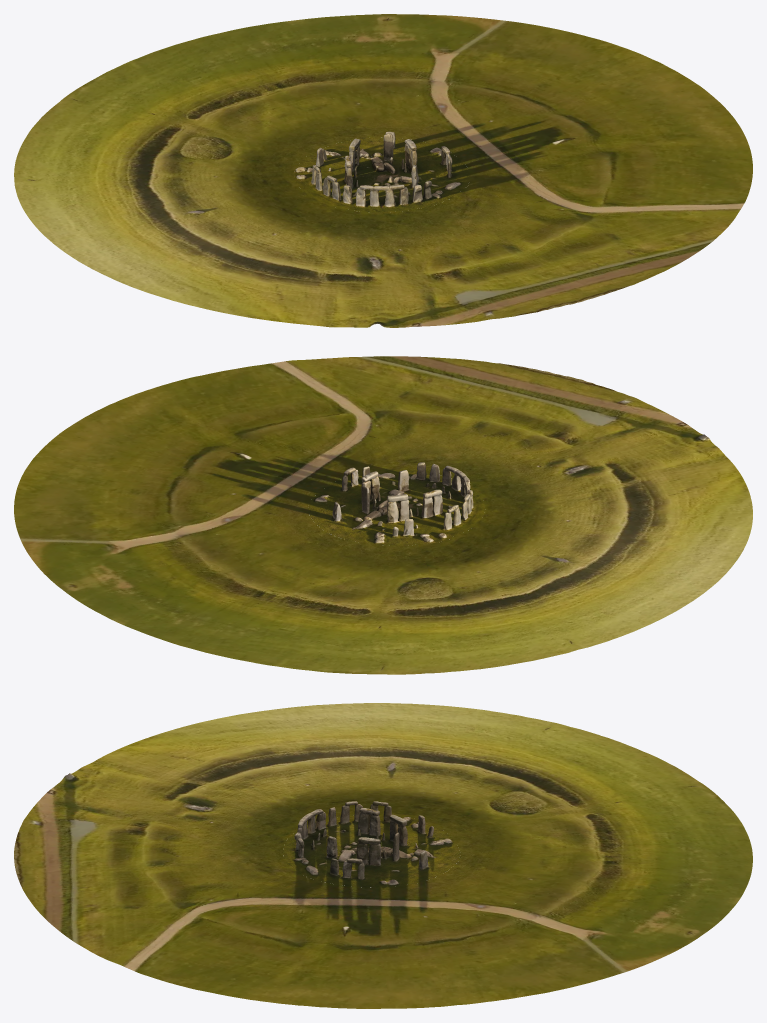
Rendered from stonehenge.glb.
3 views of the same model, one above another, from view 1: azimuth 30°, elevation 25°; view 2: azimuth 150°, elevation 25°; view 3: azimuth 270°, elevation 25° (orthographic).
Visible parts, largest first — view 1: Stonehenge_Perimeter_0, Stonehenge_Center_0; view 2: Stonehenge_Perimeter_0, Stonehenge_Center_0; view 3: Stonehenge_Perimeter_0, Stonehenge_Center_0.
Boxes of the visible parts, bbox=[...] form: Stonehenge_Perimeter_0: bbox=[14, 14, 752, 327]; Stonehenge_Center_0: bbox=[292, 131, 469, 212]; Stonehenge_Perimeter_0: bbox=[14, 356, 752, 674]; Stonehenge_Center_0: bbox=[308, 462, 484, 545]; Stonehenge_Perimeter_0: bbox=[14, 703, 752, 1008]; Stonehenge_Center_0: bbox=[283, 801, 460, 887].
Size of the model in its own units: 140 by 7.36 by 140.
2 materials, 2 textured.
